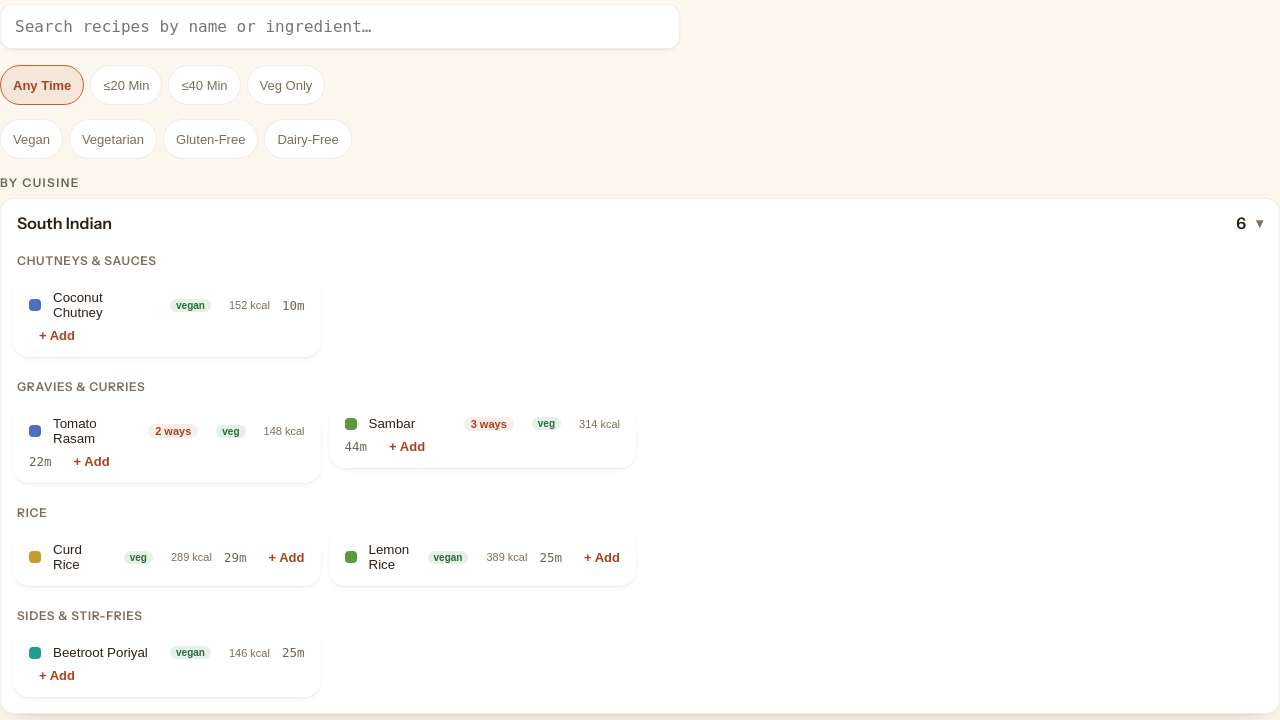
Test: RecipePicker › collapses and expands a cuisine accordion
Click the button "South Indian 6 ▾": (65, 223) 1,199 -> 1279,247
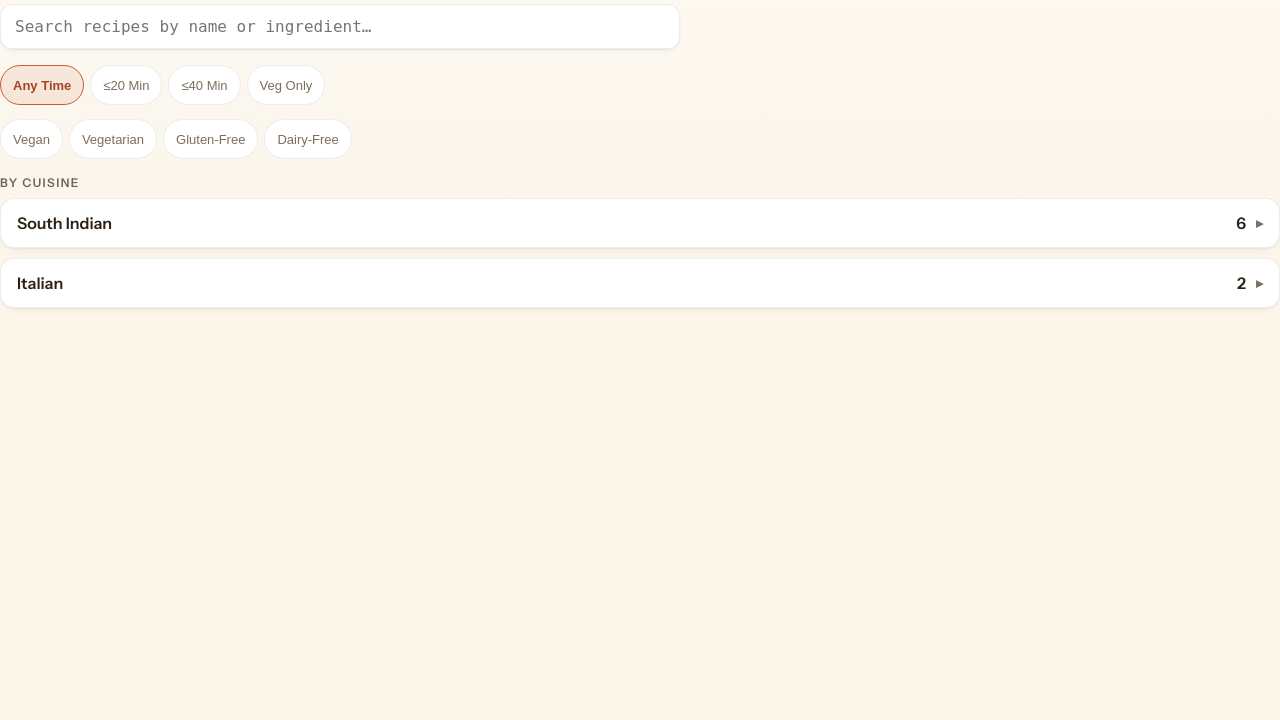
Now the button "South Indian 6 ▸" is collapsed, box 1,199 -> 1279,247
